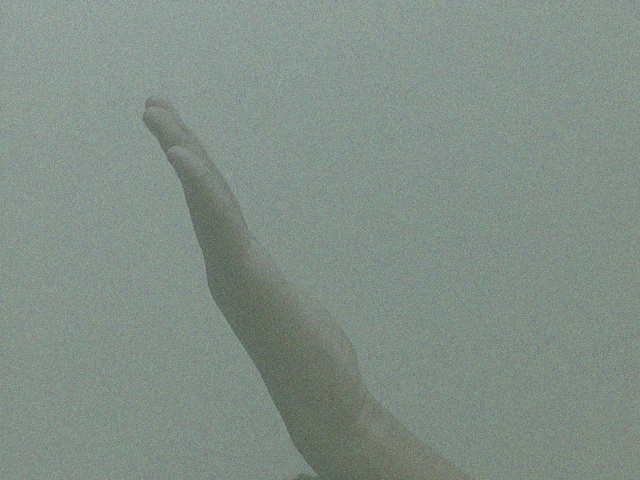hand: (139, 96, 369, 454)
